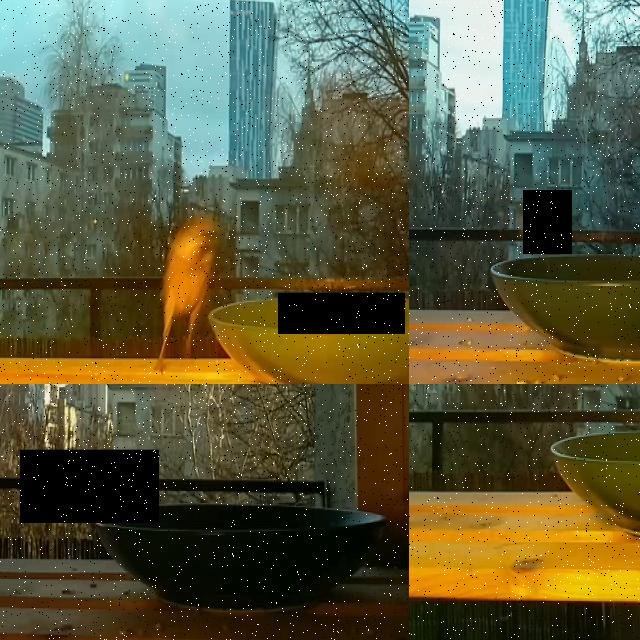Modraszka: (20, 450, 159, 523), (278, 293, 405, 334), (523, 190, 572, 254)
